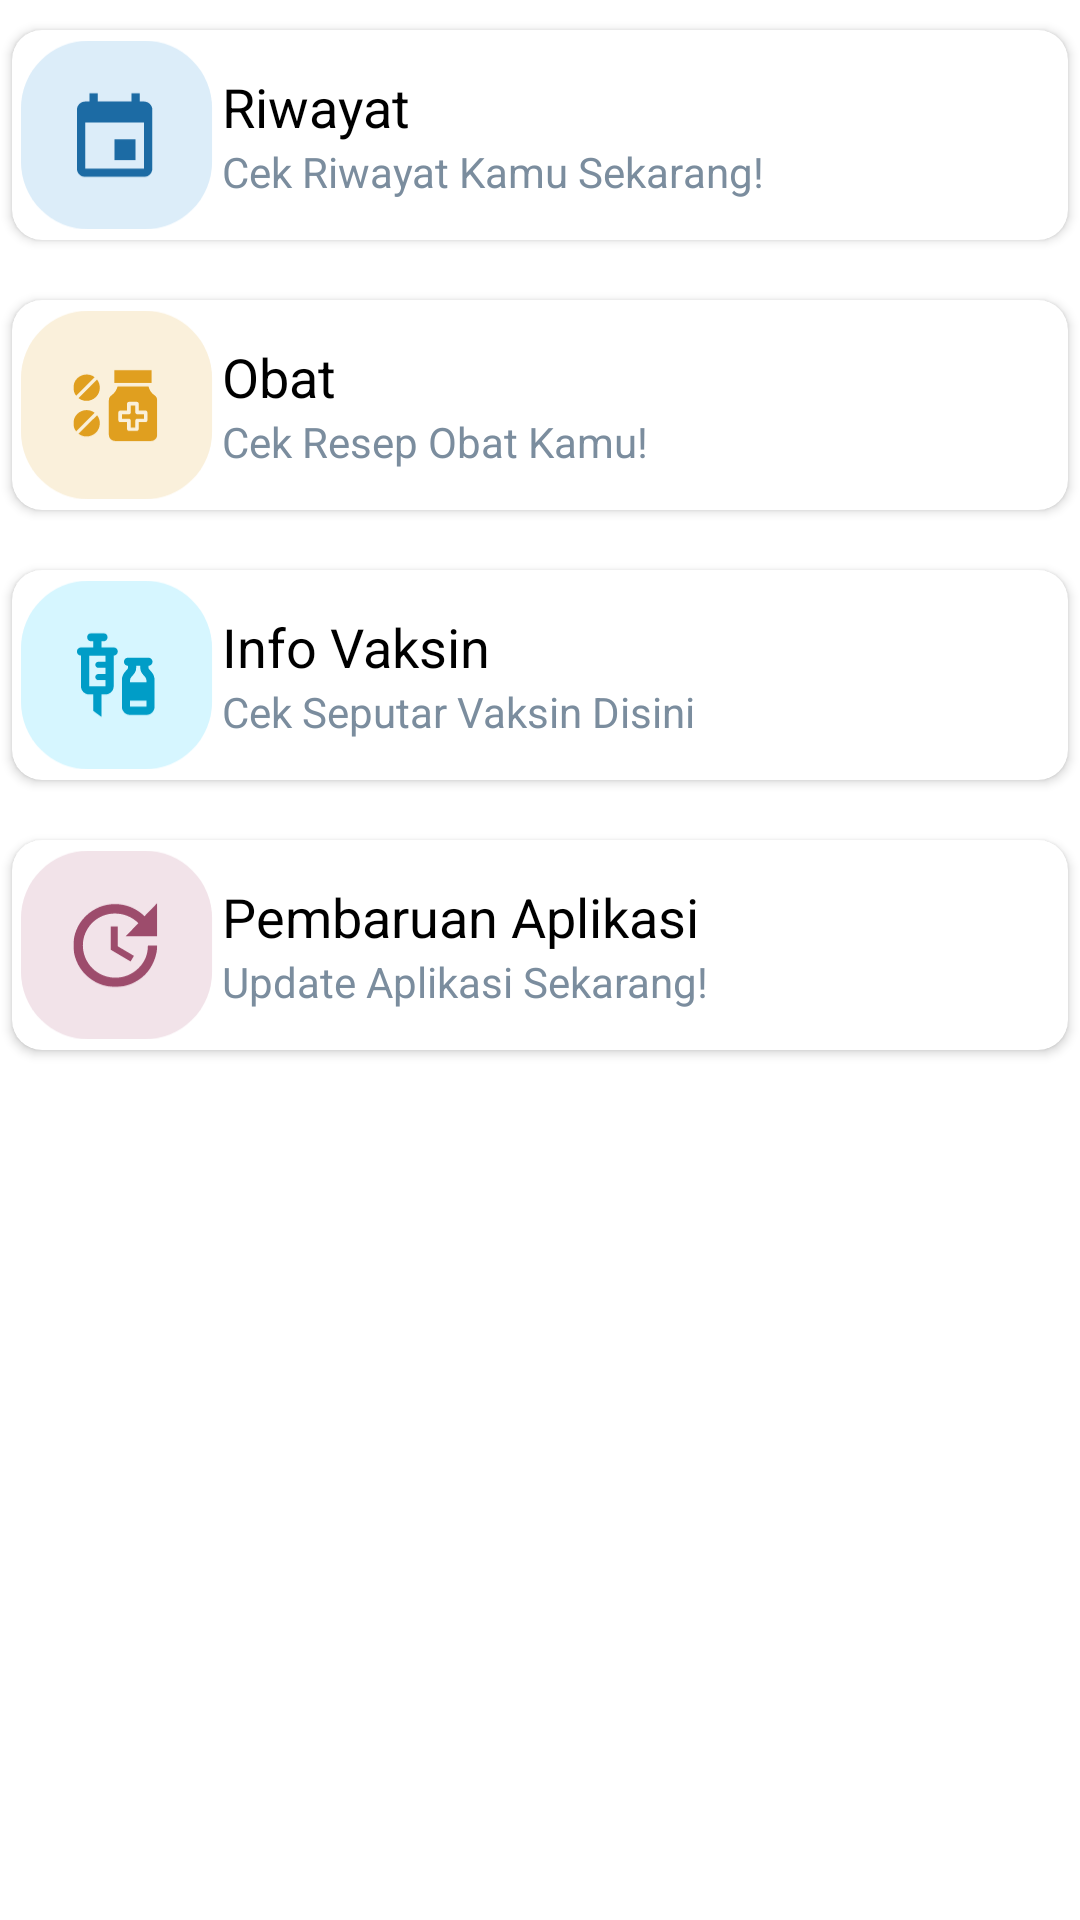

Point at icon controls on the screen. Image size 1080px×1920px, points as (x=x, y=y).
notif vaksin: (x=113, y=675)
